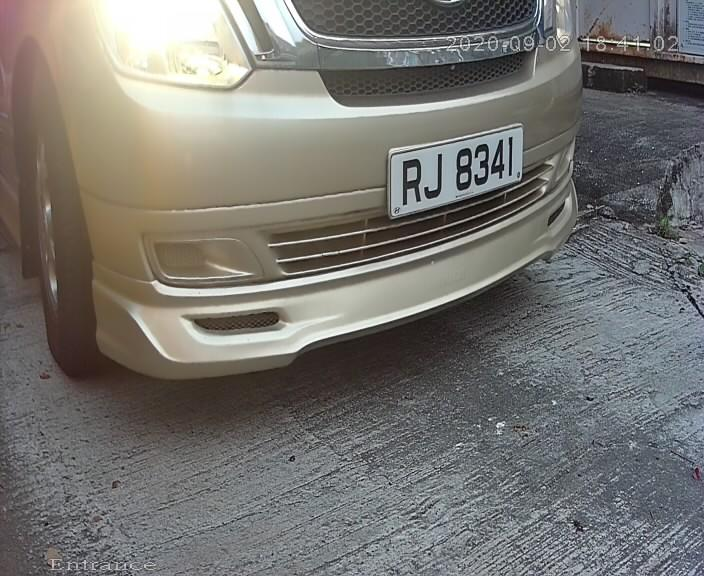License Plate: (378, 119, 535, 227)
